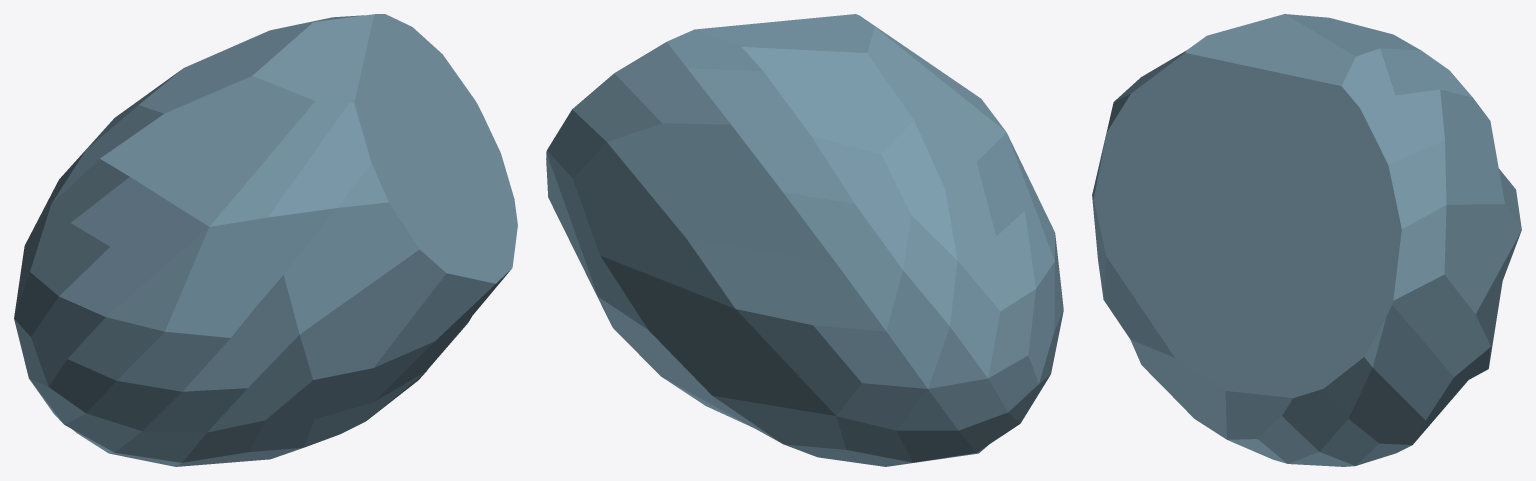
File: rock_001d_reef_boulder.glb
3 renders of one model, left to right at view 1: azimuth 30°, elevation 25°; view 2: azimuth 150°, elevation 25°; view 3: azimuth 270°, elevation 25°, orthographic. The views are drawn at different scales.
Visible parts, largest first — view 1: rock_001d_reef_boulder__mesh; view 2: rock_001d_reef_boulder__mesh; view 3: rock_001d_reef_boulder__mesh.
Boxes of the visible parts, box(x1,y1,x2,y2) form: rock_001d_reef_boulder__mesh: box(14, 14, 517, 466); rock_001d_reef_boulder__mesh: box(546, 14, 1063, 466); rock_001d_reef_boulder__mesh: box(1092, 14, 1521, 466).
Bounding box in the file's own units: 1.46 × 1.03 × 1.04.
